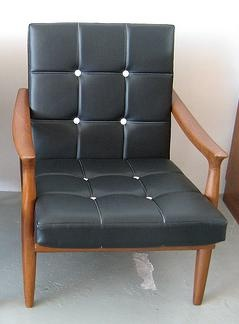obstacle: (14, 23, 225, 306)
